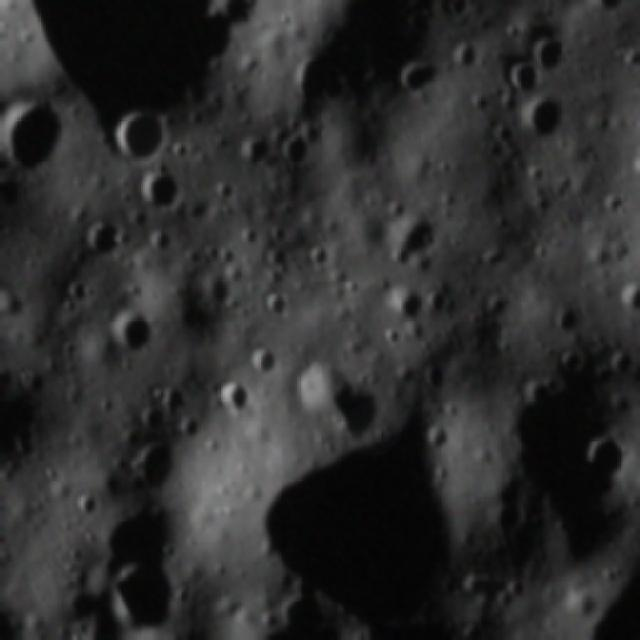crater: (278, 360, 382, 446), (100, 555, 189, 640), (0, 91, 66, 182), (117, 434, 188, 497), (104, 106, 168, 172), (195, 378, 257, 432), (99, 308, 158, 364), (132, 162, 183, 218), (74, 211, 124, 266), (520, 91, 569, 146), (575, 435, 631, 483), (389, 58, 440, 102), (494, 59, 540, 107), (523, 32, 569, 76), (232, 130, 274, 176), (238, 344, 282, 387), (274, 128, 315, 172), (257, 286, 294, 323), (62, 488, 102, 520), (0, 597, 28, 640), (554, 343, 588, 377), (418, 423, 454, 455)
